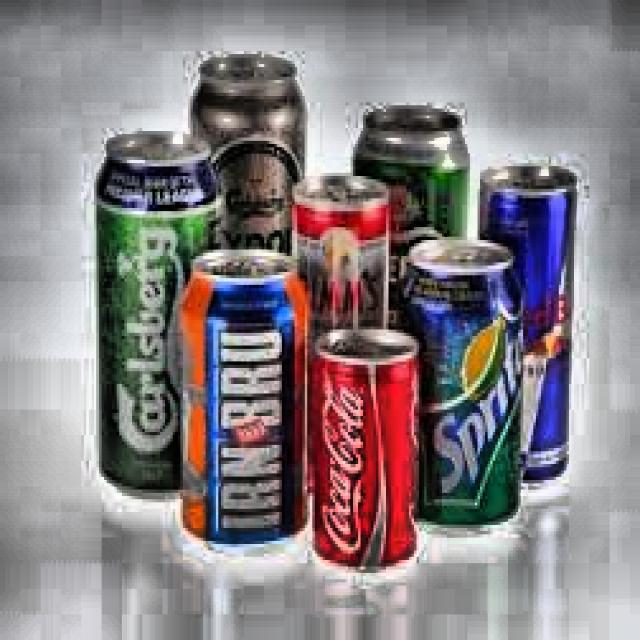can: (92, 124, 221, 499), (166, 242, 314, 557), (402, 237, 526, 532), (476, 156, 577, 487), (352, 100, 470, 345), (186, 47, 310, 280), (312, 323, 423, 569), (286, 165, 394, 350)
